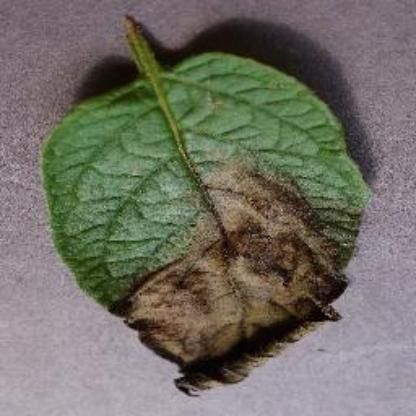Late-Blight: (27, 29, 403, 405)
